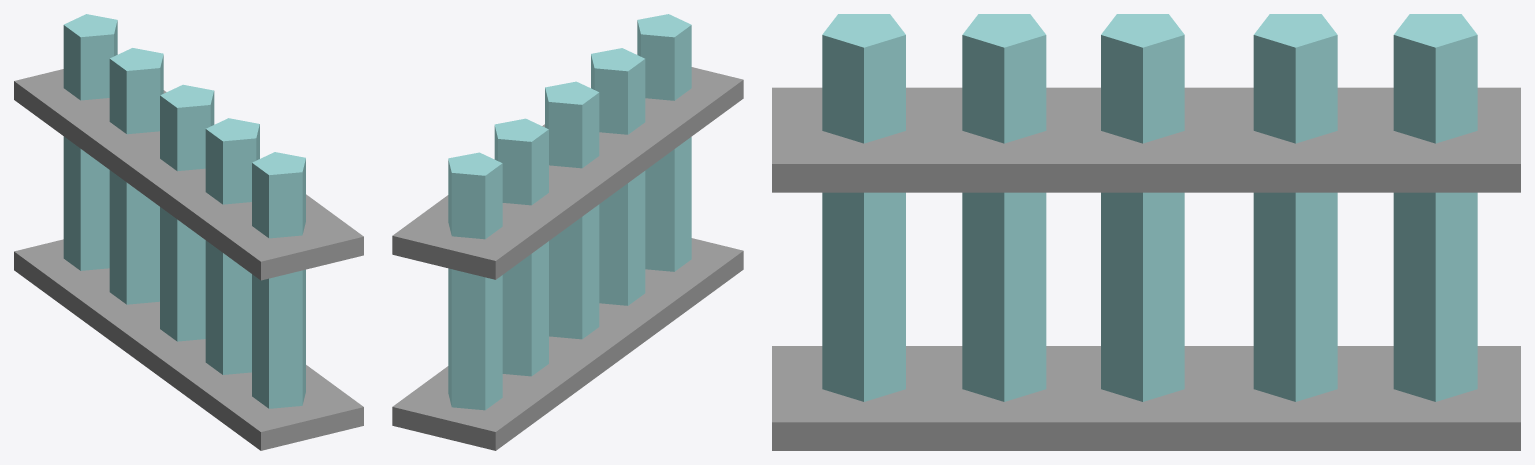
File: LabVials.fbx
3 renders of one model, left to right at view 1: azimuth 30°, elevation 25°; view 2: azimuth 150°, elevation 25°; view 3: azimuth 270°, elevation 25°, orthographic. The views are drawn at different scales.
Parts seen in each view (by area): view 1: pCube155, pCube156, pCylinder28, pCylinder25, pCylinder27, pCylinder24, pCylinder26; view 2: pCube155, pCube156, pCylinder24, pCylinder26, pCylinder28, pCylinder27, pCylinder25; view 3: pCube155, pCube156, pCylinder24, pCylinder27, pCylinder25, pCylinder28, pCylinder26.
Part boxes in pixels (x1,y1,x2,y2): pCube155: (14, 69, 363, 280); pCube156: (14, 239, 363, 450); pCylinder28: (252, 152, 305, 408); pCylinder25: (109, 48, 163, 304); pCylinder27: (205, 118, 259, 374); pCylinder24: (63, 14, 117, 270); pCylinder26: (160, 84, 214, 341); pCube155: (392, 67, 743, 279); pCube156: (392, 238, 743, 450); pCylinder24: (448, 152, 502, 410); pCylinder26: (545, 81, 599, 339); pCylinder28: (637, 14, 691, 271); pCylinder27: (591, 48, 645, 305); pCylinder25: (494, 118, 548, 376); pCube155: (772, 87, 1520, 192); pCube156: (772, 346, 1520, 450); pCylinder24: (1393, 14, 1477, 401); pCylinder27: (962, 14, 1046, 401); pCylinder25: (1253, 14, 1337, 401); pCylinder28: (822, 14, 905, 401); pCylinder26: (1101, 14, 1184, 401).
Bounding box in the file's own units: 0.3947 × 0.9241 × 1.64.
